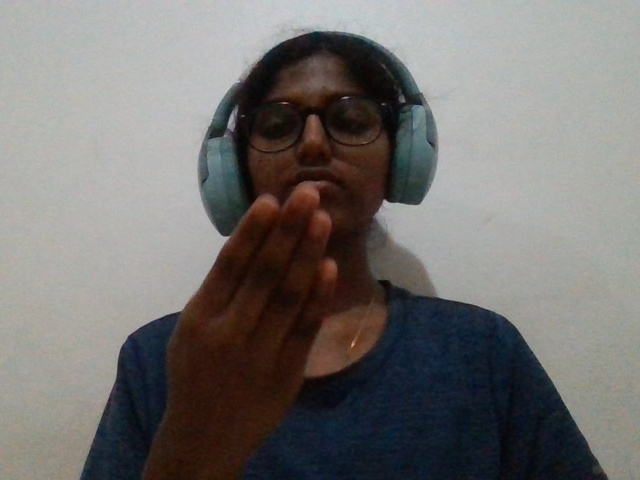Thanks: (136, 162, 379, 442)
